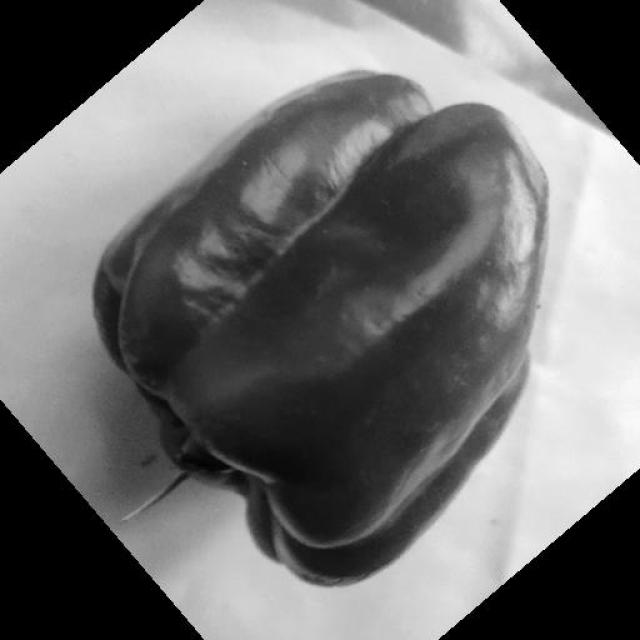Stale_Capsicum: (167, 95, 495, 534)
